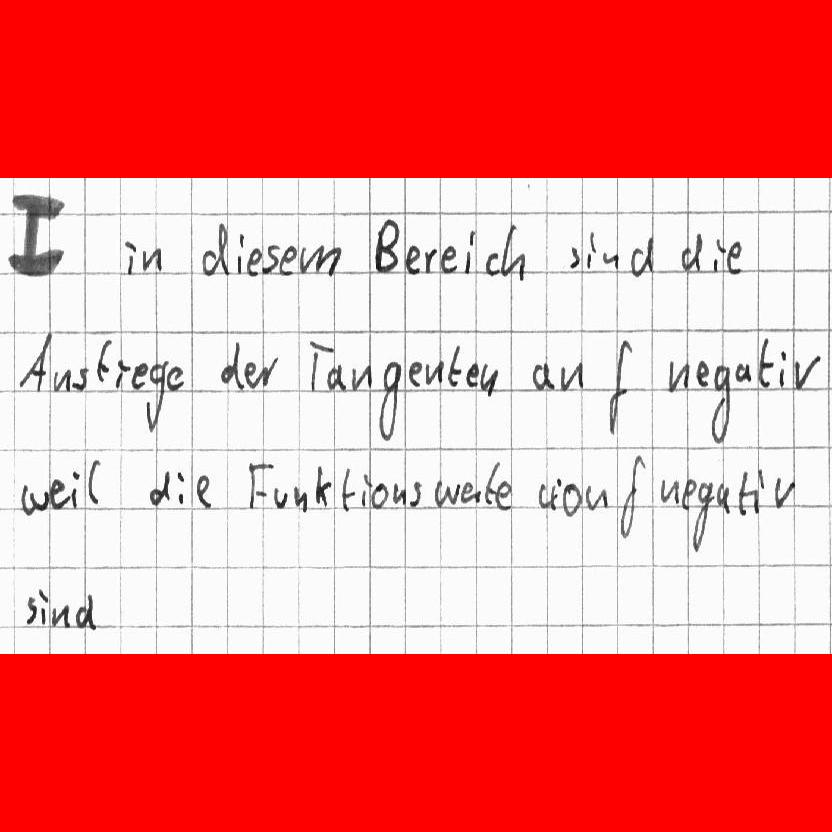Char: (608, 333, 635, 434), (619, 452, 647, 541), (17, 330, 52, 393), (379, 358, 403, 441), (709, 361, 731, 445), (145, 357, 169, 433), (200, 219, 231, 276), (692, 478, 715, 553), (499, 223, 528, 282), (295, 243, 342, 278), (371, 215, 399, 273), (628, 235, 662, 277), (307, 338, 332, 393), (246, 460, 273, 508), (220, 336, 243, 390), (792, 351, 820, 393), (755, 337, 776, 389), (557, 357, 587, 393), (679, 231, 704, 273), (19, 481, 48, 517), (148, 466, 172, 508), (665, 357, 691, 395), (86, 458, 106, 507), (771, 473, 797, 510), (477, 358, 501, 398), (74, 593, 98, 631), (433, 477, 461, 509), (94, 335, 112, 383), (446, 341, 464, 389), (529, 359, 556, 391), (562, 480, 584, 519), (312, 463, 331, 507), (163, 360, 187, 393), (47, 476, 71, 509), (734, 466, 749, 518), (277, 243, 299, 278), (485, 460, 501, 508), (339, 465, 356, 510), (350, 359, 374, 390), (585, 482, 609, 513), (725, 238, 745, 275), (538, 481, 561, 513), (194, 474, 215, 508), (584, 228, 600, 272), (140, 246, 166, 273), (324, 362, 348, 391), (657, 475, 680, 505), (259, 354, 279, 388), (49, 366, 72, 395), (403, 241, 421, 277), (462, 228, 476, 274), (261, 244, 281, 276), (439, 243, 459, 275), (694, 356, 714, 388), (711, 236, 728, 273), (715, 477, 731, 516), (752, 466, 765, 513), (424, 358, 445, 387), (494, 479, 513, 511), (358, 469, 373, 509), (370, 479, 388, 512), (130, 360, 149, 391), (69, 365, 90, 392), (123, 238, 138, 275), (732, 358, 753, 384), (68, 469, 82, 508), (50, 602, 71, 628), (235, 231, 247, 276), (241, 359, 259, 388), (114, 356, 129, 390), (681, 476, 696, 510), (292, 485, 310, 513), (600, 248, 623, 269), (777, 347, 789, 387), (37, 586, 49, 625), (247, 245, 262, 276), (391, 480, 408, 507), (483, 250, 501, 275), (408, 477, 423, 507), (423, 246, 439, 274), (464, 360, 479, 389), (24, 595, 38, 626), (272, 484, 288, 510), (408, 358, 422, 387), (567, 244, 581, 271), (460, 478, 474, 505), (176, 468, 185, 506), (473, 487, 481, 505)
